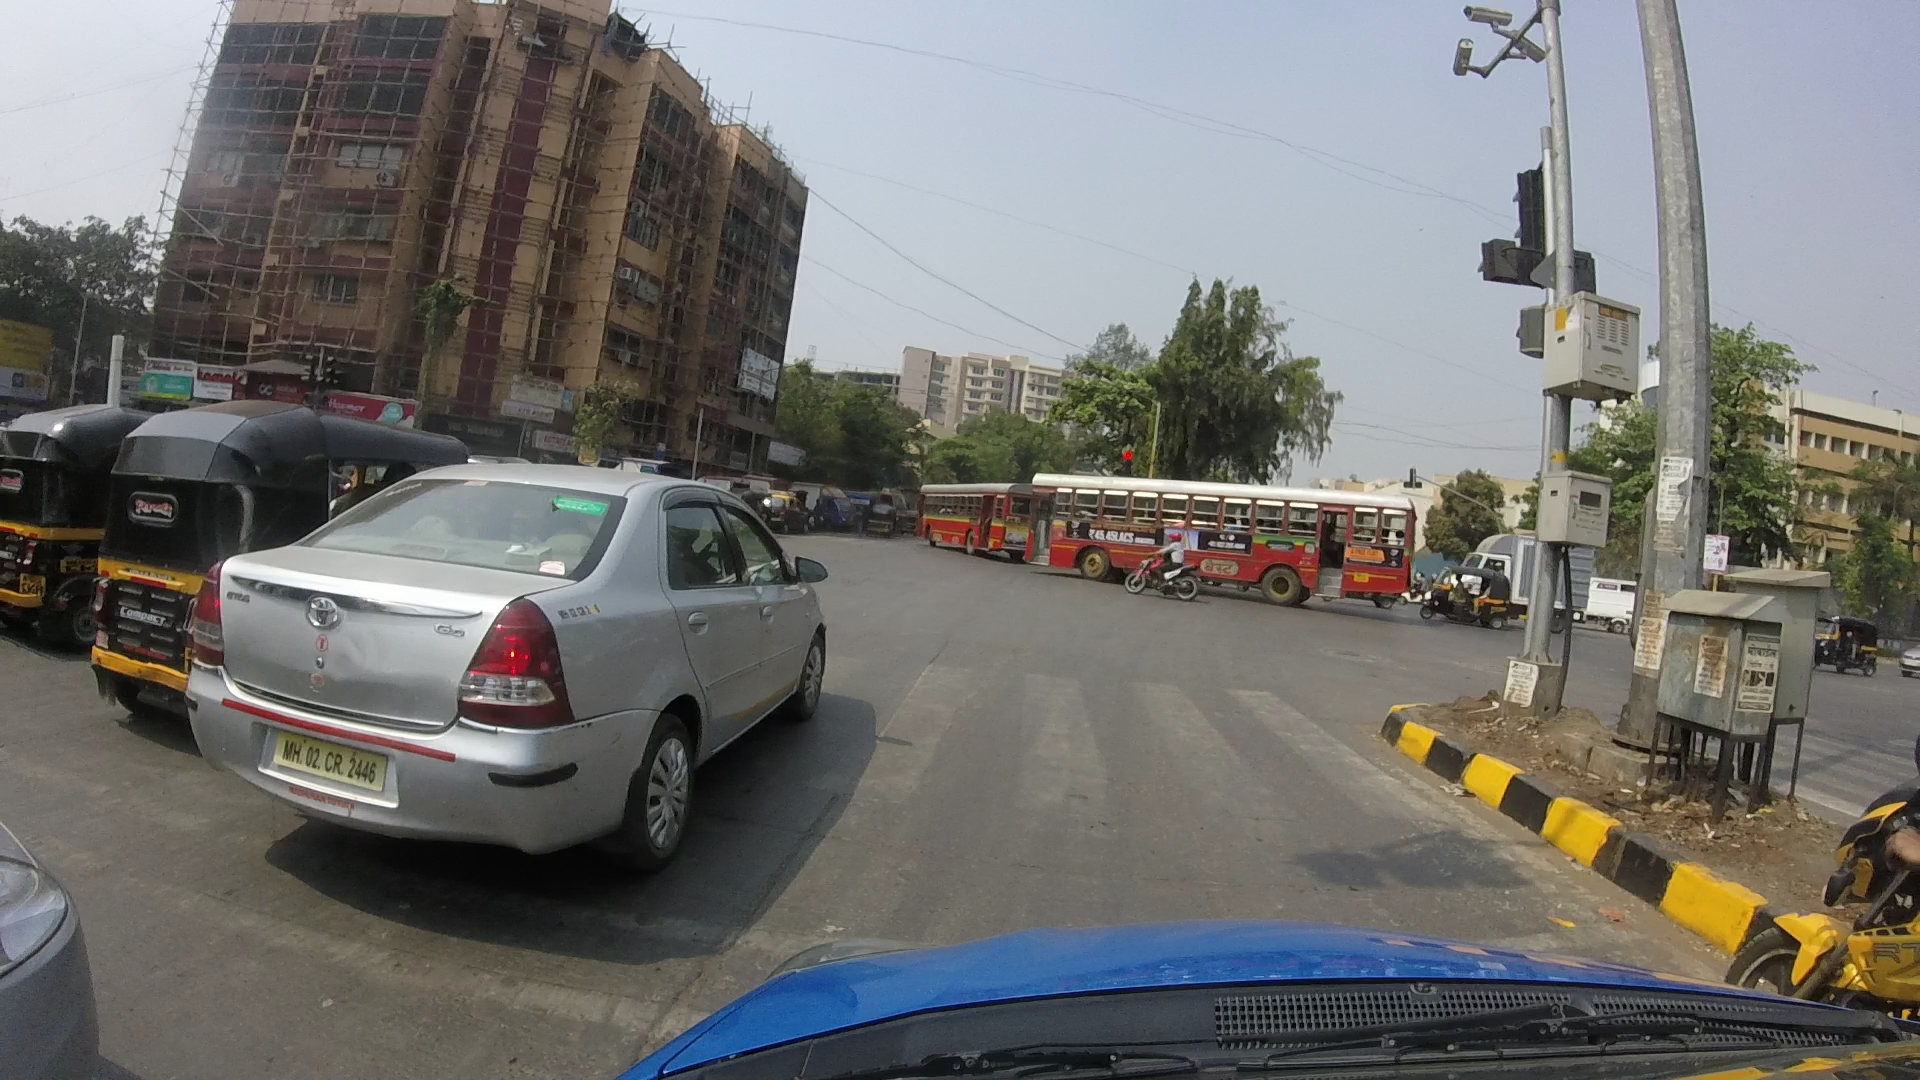bus: (1034, 473, 1419, 607), (902, 473, 1036, 563)
car: (193, 465, 833, 865)
rickshaw: (75, 410, 455, 702), (18, 410, 123, 636)
